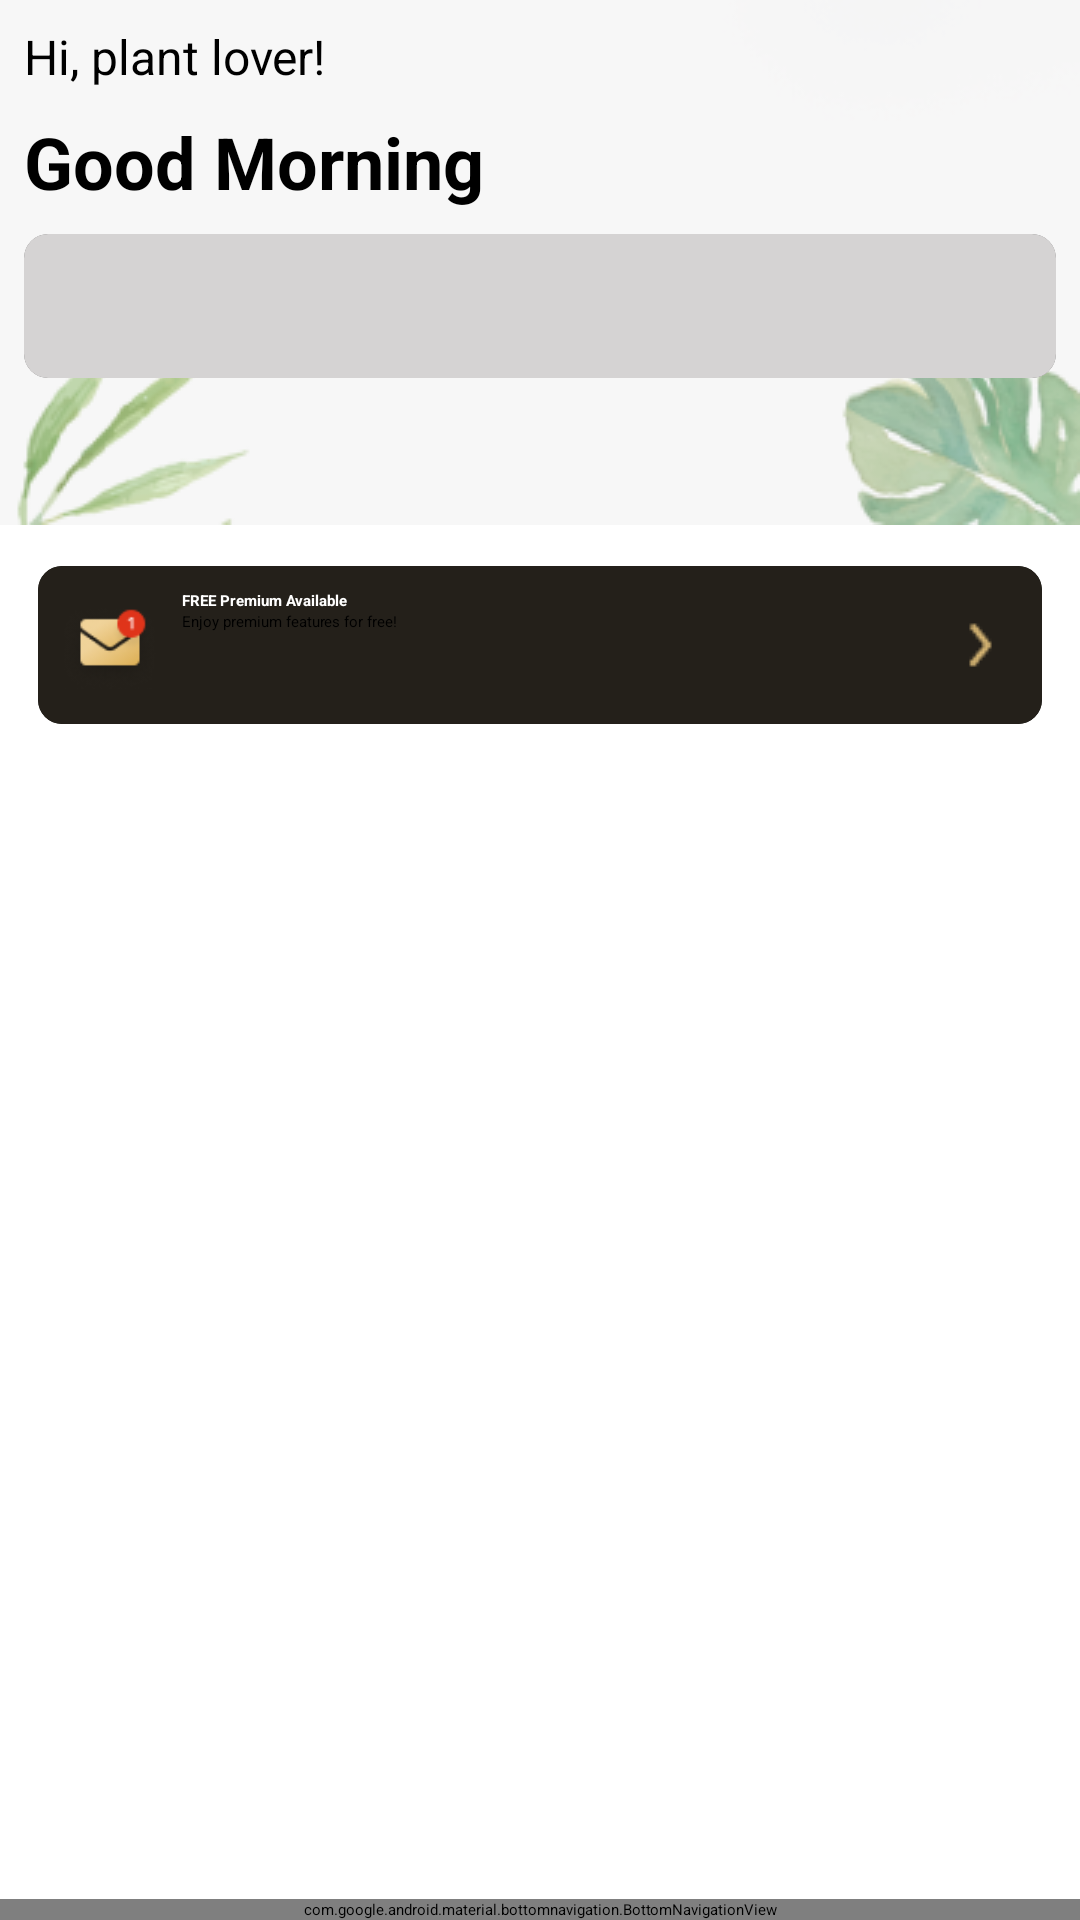

Where icons sit on this 1080*1920 app screen, as (x1, y1, x2, y2):
mail: (80, 609, 146, 666)
right: (969, 623, 992, 667)
